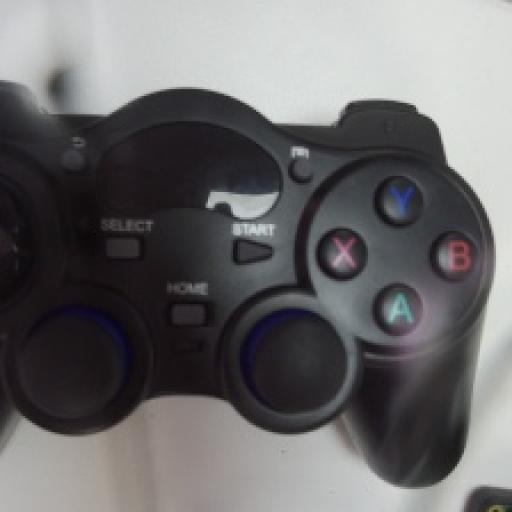game pad: (0, 82, 491, 485)
